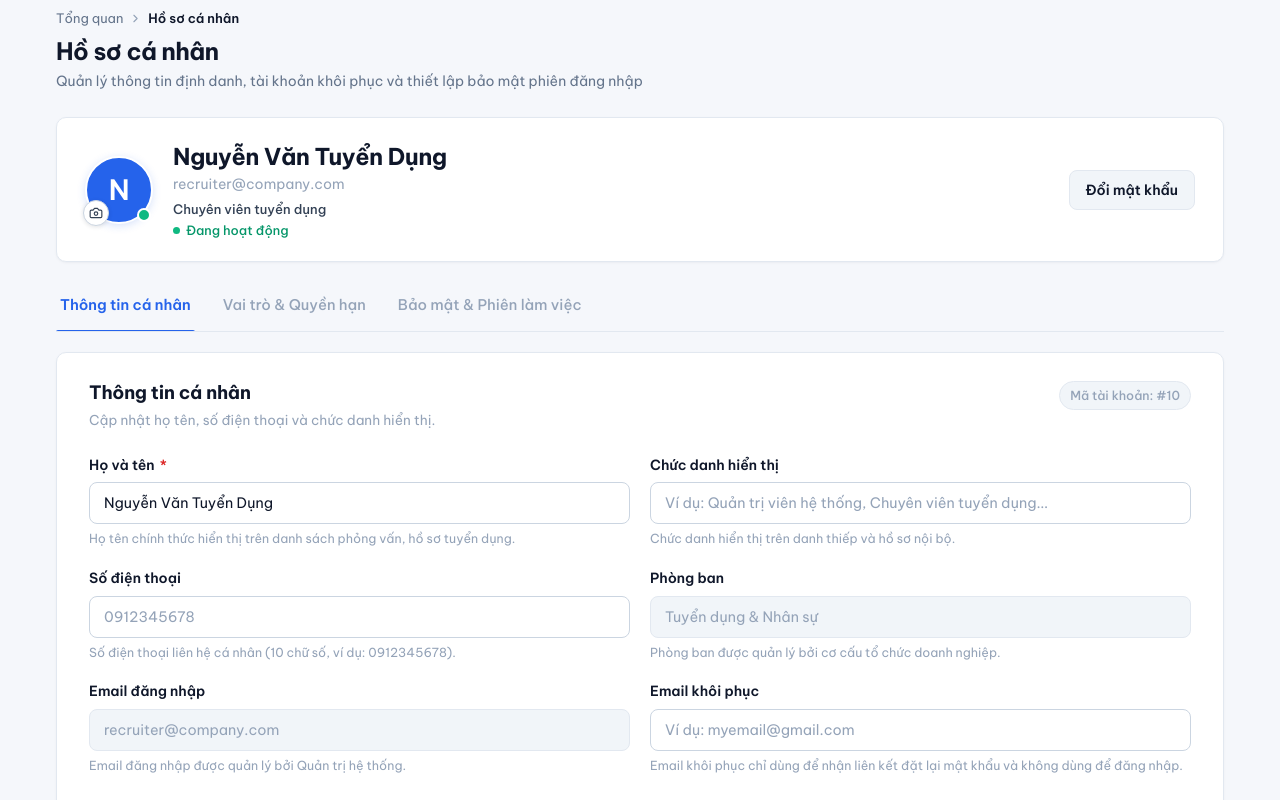
Test: ProfilePage Component (Personal User Profile) › can switch tabs to RBAC and view role permissions breakdown
What coordinates should you click on to do the following:
click the button "Vai trò & Quyền hạn"
I would click on:
 (294, 306)
Its box is [219,282,370,331].
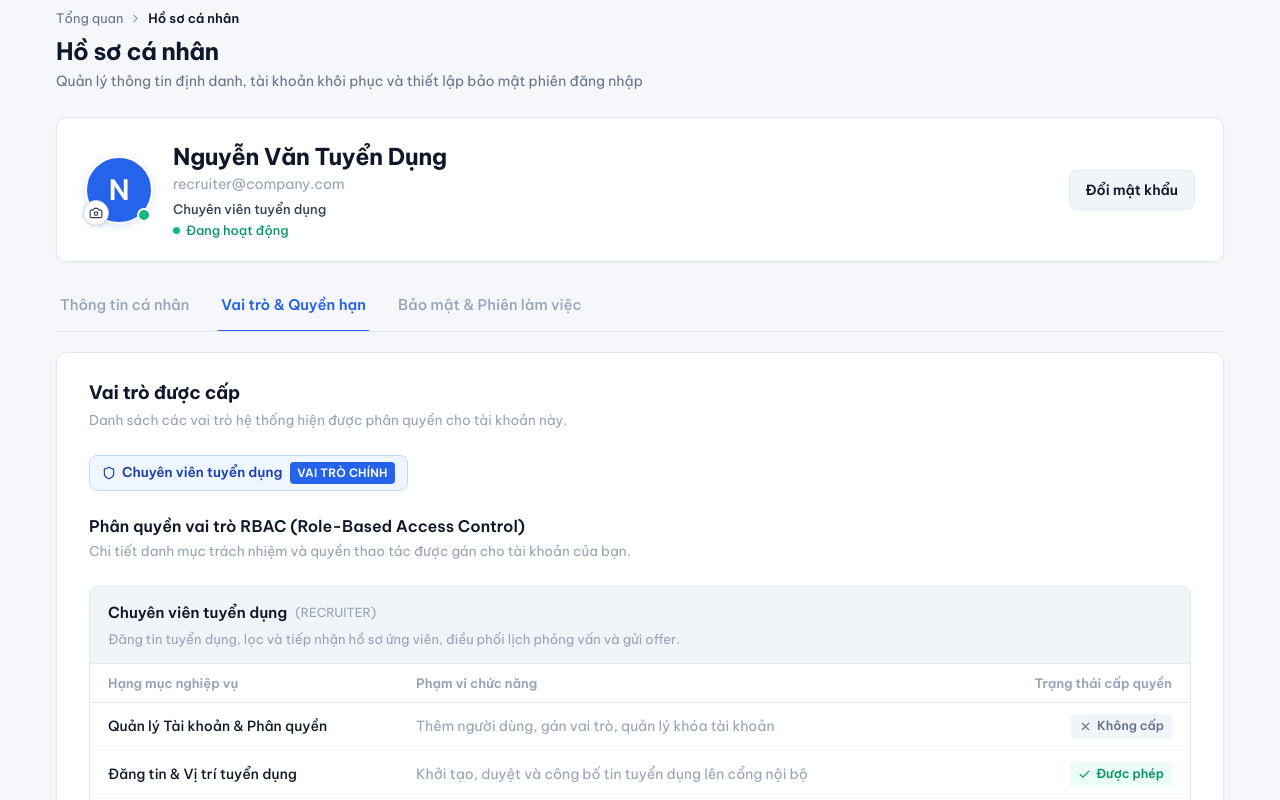
Result: the heading "Phân quyền vai trò RBAC (Role-Based Access Control)" is shown at [89,516,525,536]
Result: the column heading "Phạm vi chức năng" is shown at [398,664,970,703]
